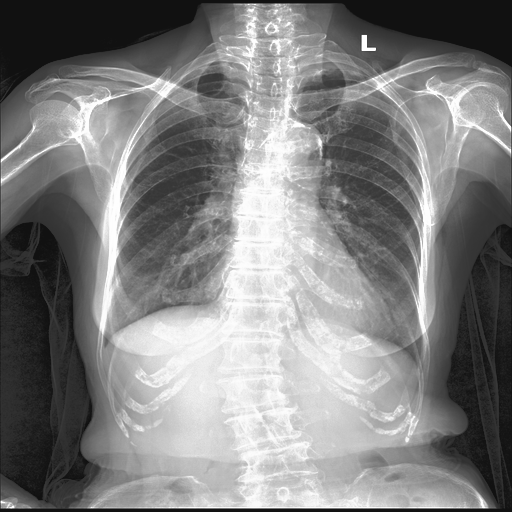Calcification: (300, 62, 345, 77)
Consolidation: (274, 121, 324, 183)
Lung Opacity: (294, 119, 323, 158)
Nodule/Mass: (217, 269, 392, 345)
Other lesion: (218, 294, 311, 482)
